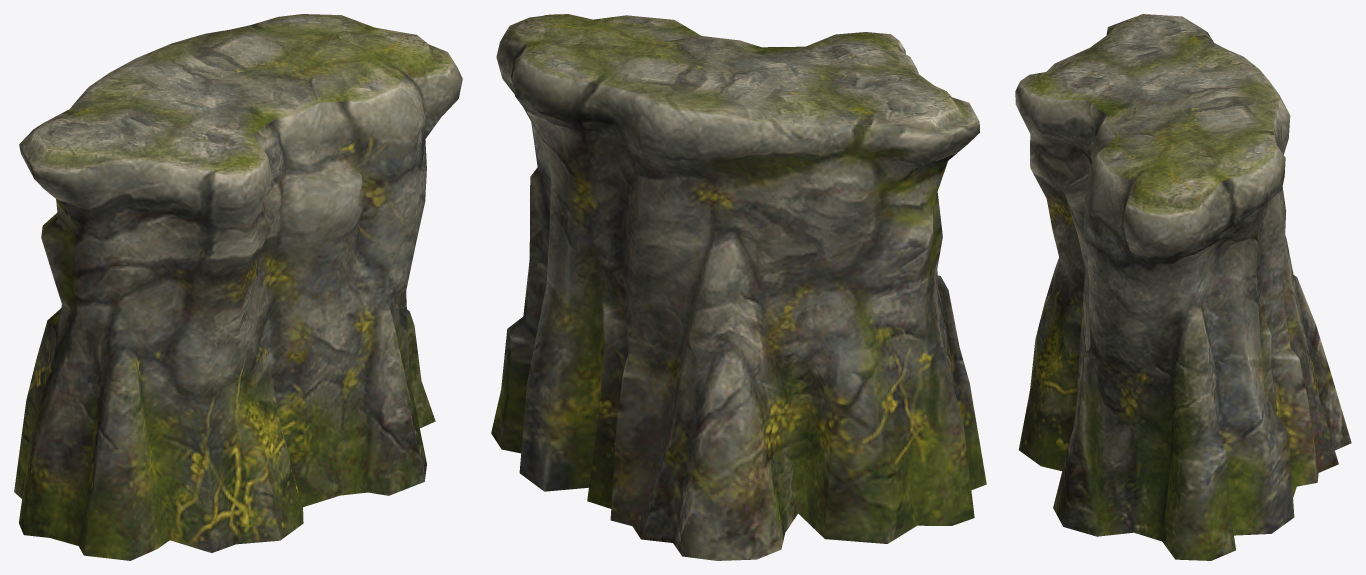
The model's file is 4009_Item_shitou_1.FBX.
3 renders of one model, left to right at view 1: azimuth 30°, elevation 25°; view 2: azimuth 150°, elevation 25°; view 3: azimuth 270°, elevation 25°, orthographic. The views are drawn at different scales.
Parts seen in each view (by area): view 1: 4009_Item_shitou_1; view 2: 4009_Item_shitou_1; view 3: 4009_Item_shitou_1.
Boxes of the visible parts, x1,y1,x2,y2 form: 4009_Item_shitou_1: [14, 14, 462, 560]; 4009_Item_shitou_1: [491, 14, 986, 560]; 4009_Item_shitou_1: [1015, 14, 1351, 560].
Bounding box in the file's own units: 1051 × 890 × 736.
